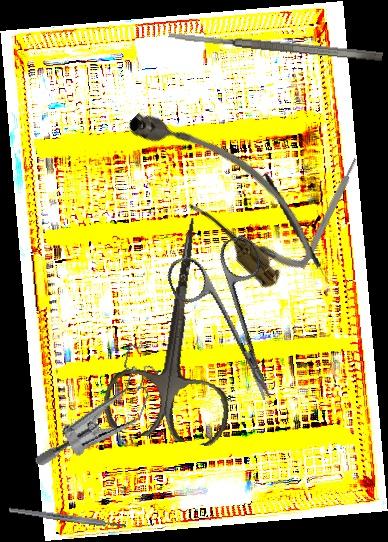Cannula: (115, 80, 328, 298)
Chopper: (263, 165, 337, 291)
Iris Scissors: (98, 208, 258, 449), (162, 232, 308, 417)
Scalpel Handle: (299, 157, 359, 270), (8, 506, 127, 530)
Spatula Surgical: (167, 28, 384, 64)
Speculum: (32, 320, 169, 493)
